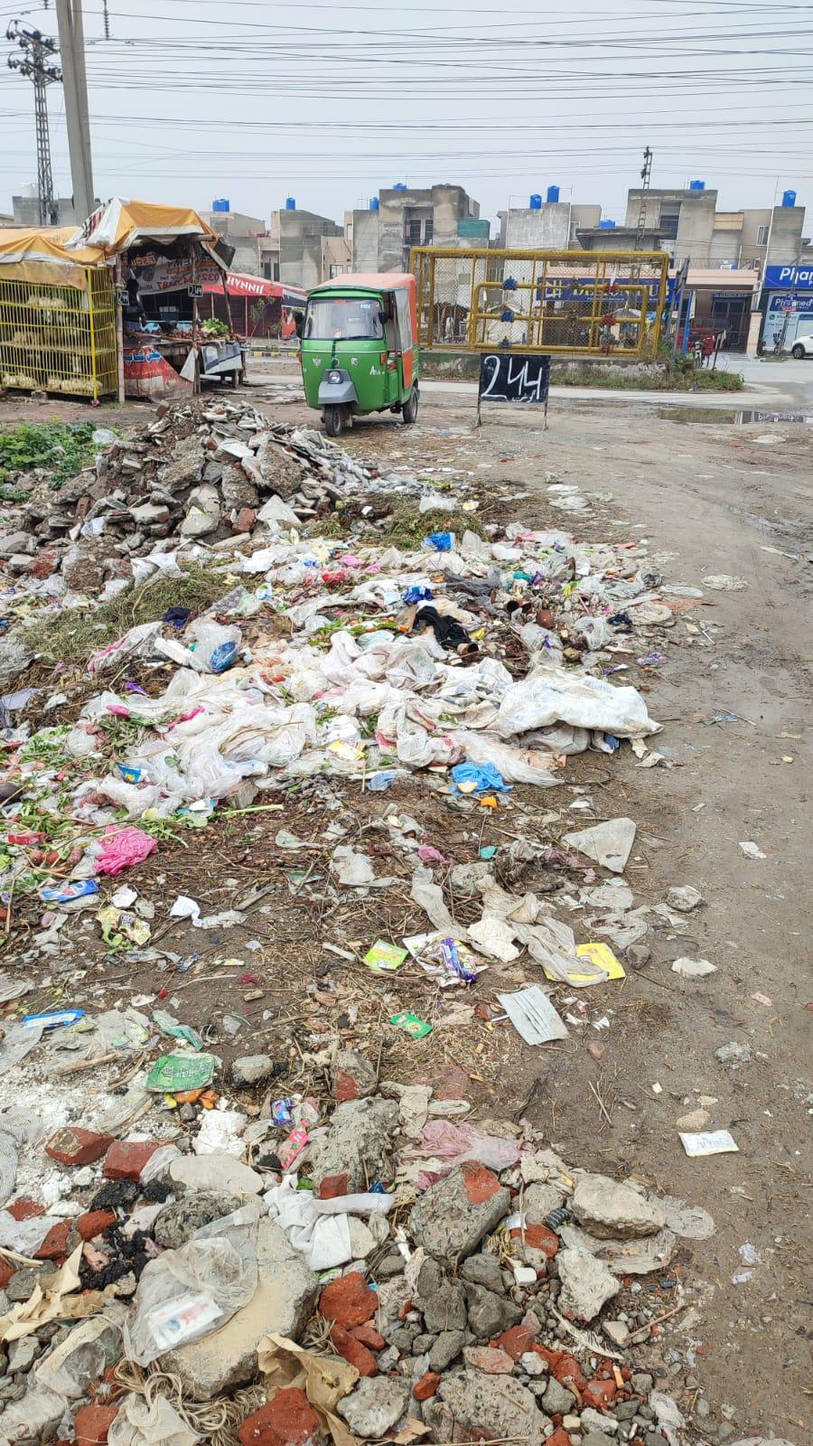garbage: (1, 416, 676, 950)
